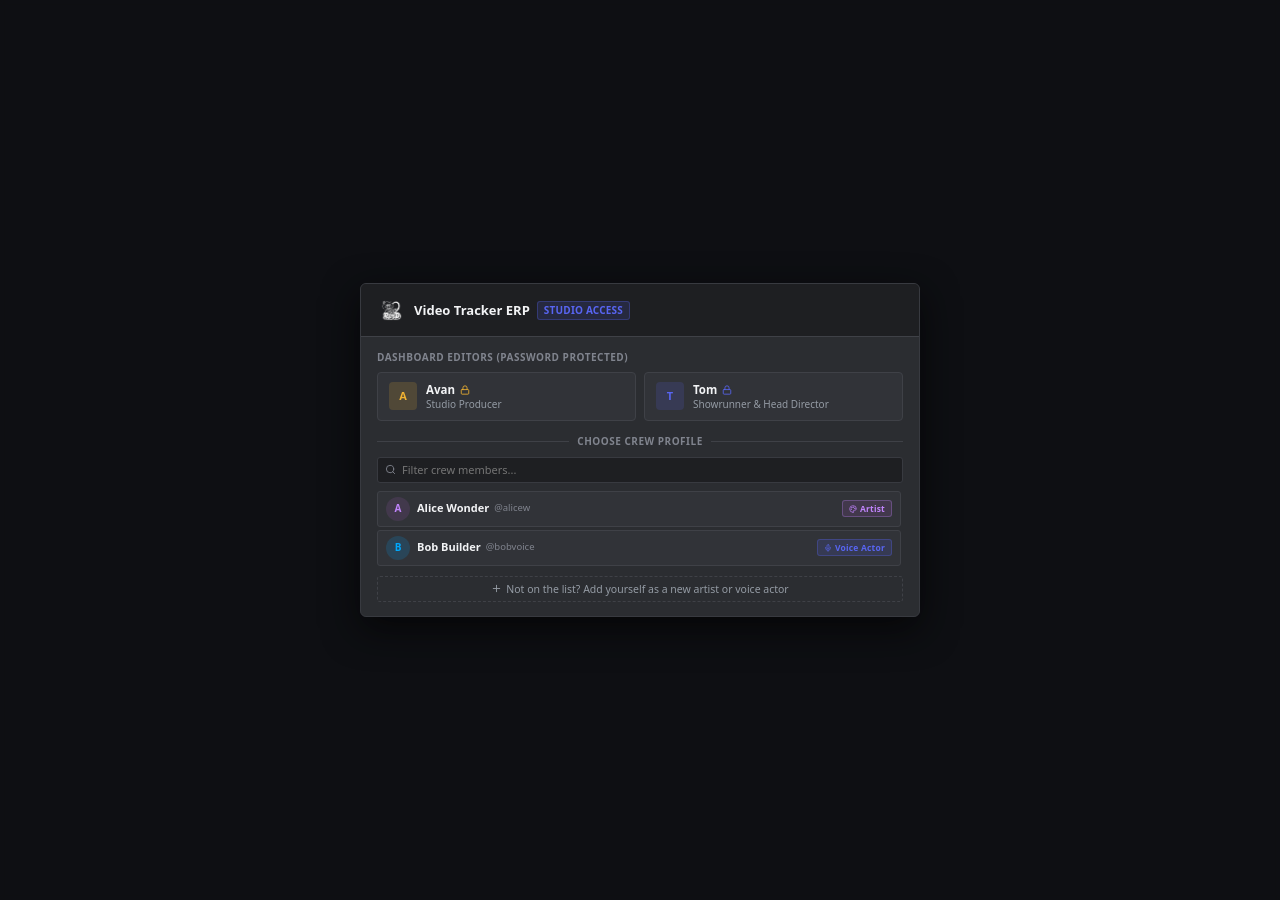
it: <WhoAreYouModal /> › shows error message if passcode is invalid
Click Tom
Click the text "Tom": x=705, y=390 [693,382,717,398]
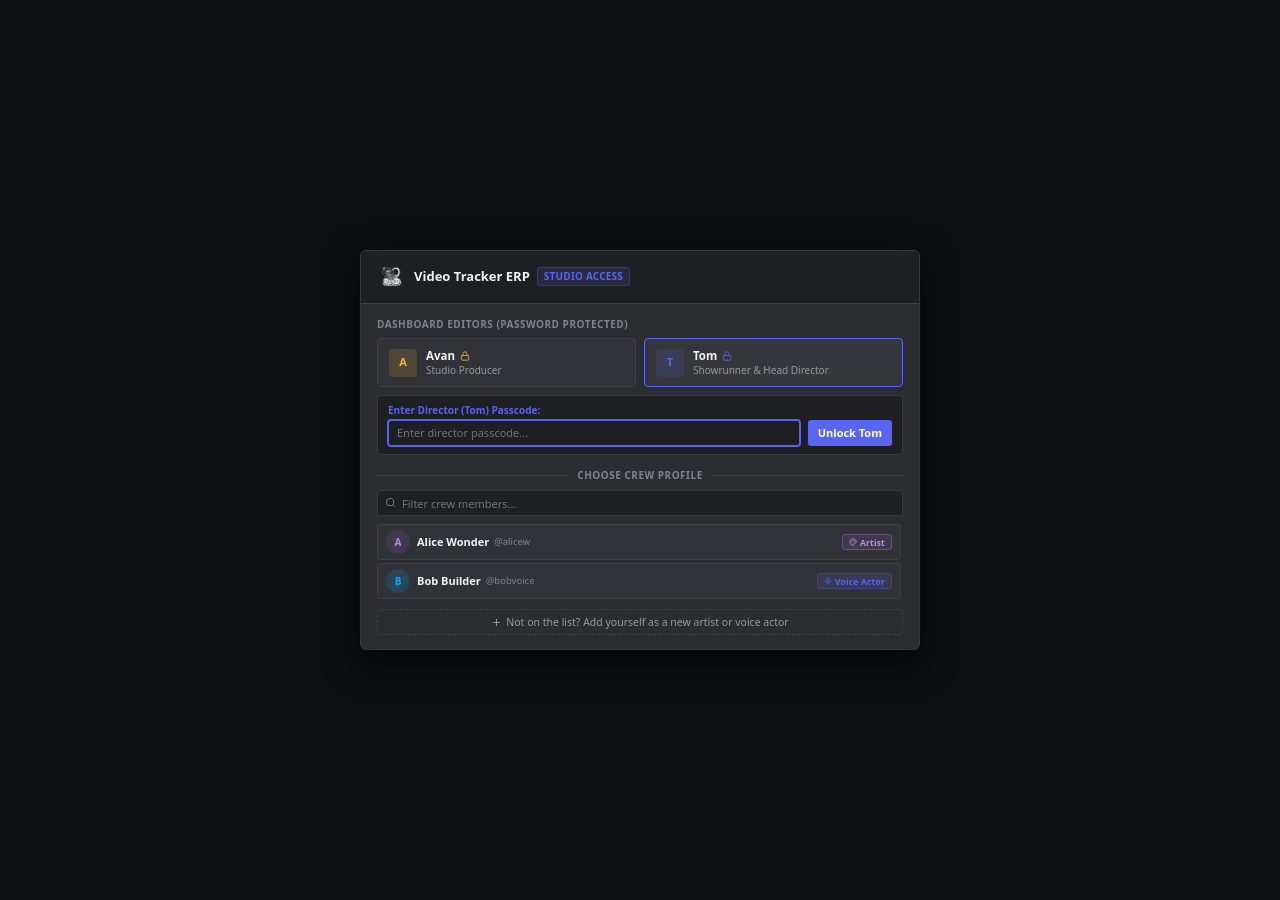
In the password field with placeholder "Enter director passcode...": x=594, y=433 [388,420,800,446], type "wrongpass"
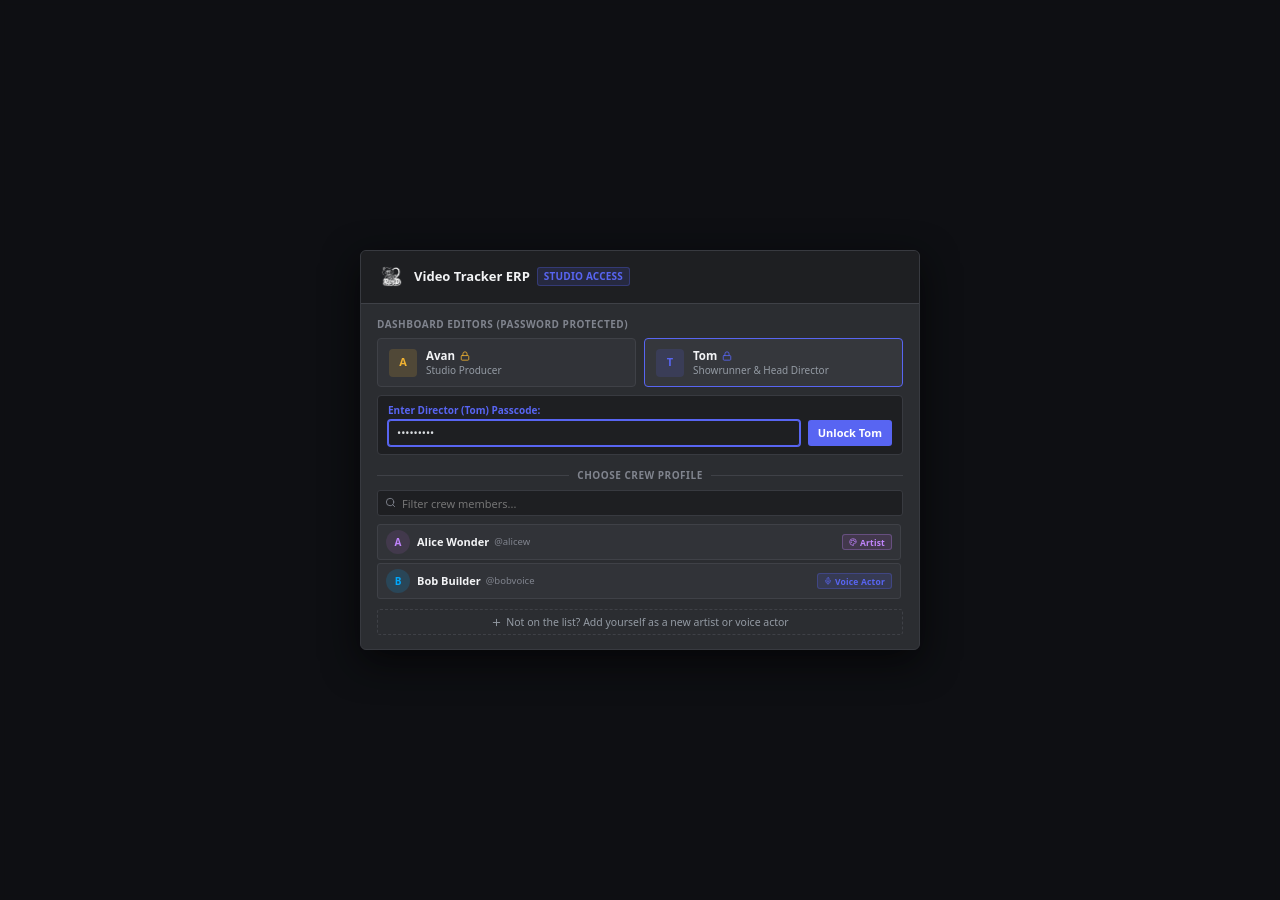
Click the button "Unlock Tom": x=850, y=433 [808,420,892,446]
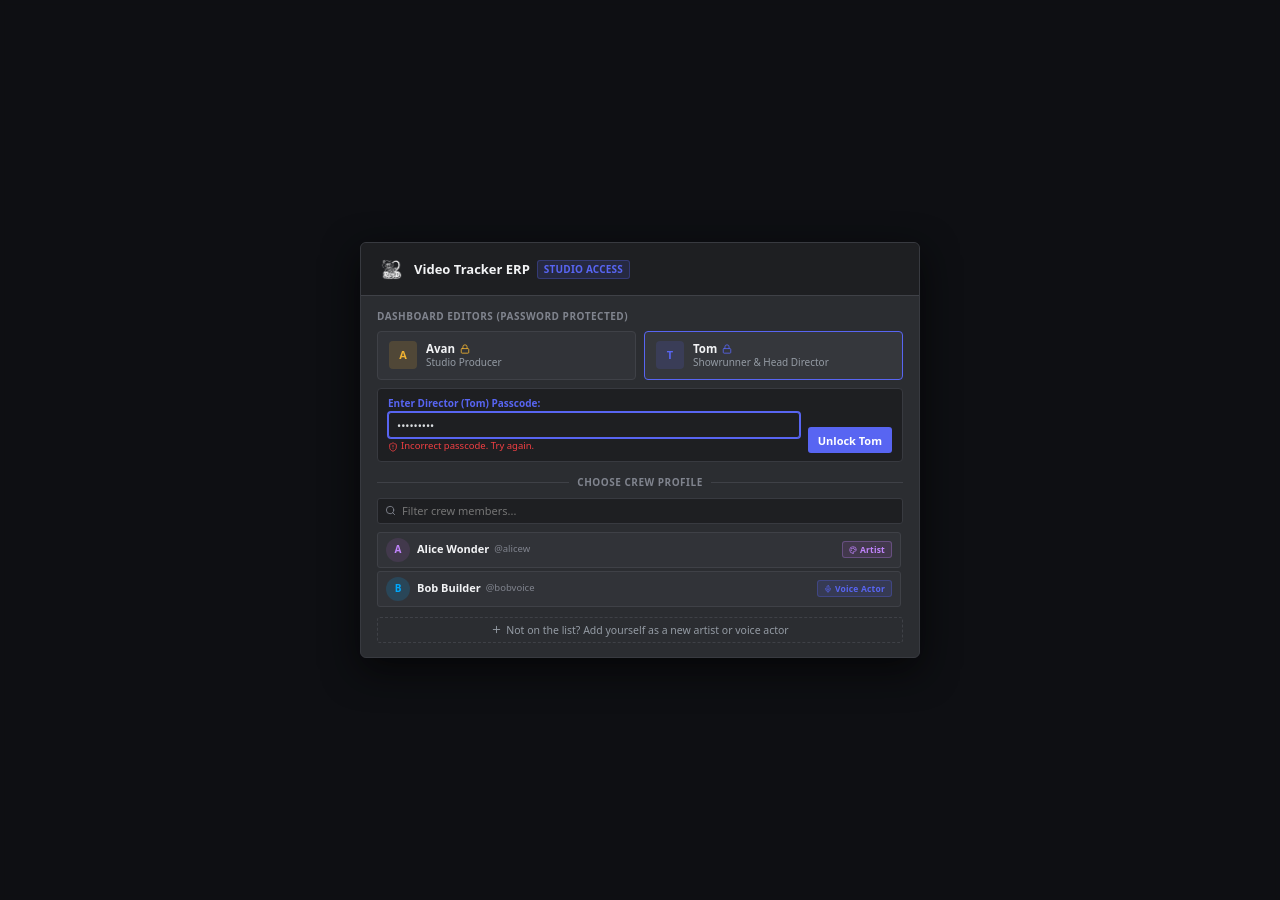
Check: the text "Incorrect passcode. Try again." is shown, box [388,439,534,452]
